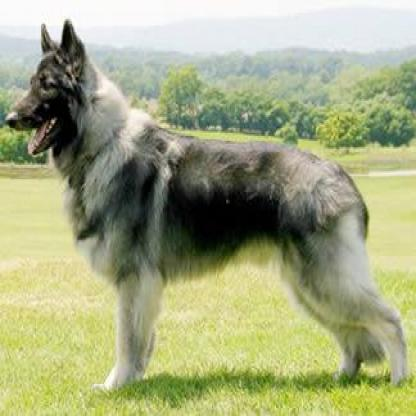German_shepherd: (6, 20, 410, 390)
